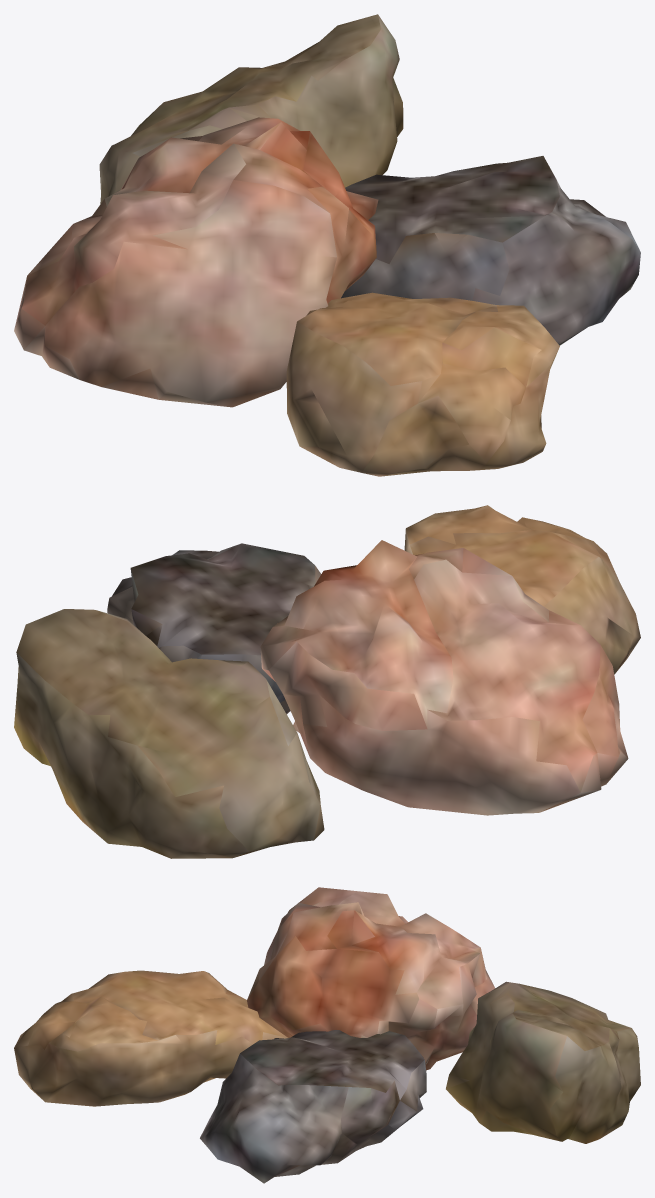
The model's file is ph_rock_6.glb.
3 views of the same model, one above another, from view 1: azimuth 30°, elevation 25°; view 2: azimuth 150°, elevation 25°; view 3: azimuth 270°, elevation 25° (orthographic). The views are drawn at different scales.
Parts seen in each view (by area): view 1: ph_rock_6_lod1; view 2: ph_rock_6_lod1; view 3: ph_rock_6_lod1.
Boxes of the visible parts, box(x1,y1,x2,y2) form: ph_rock_6_lod1: box(14, 14, 640, 476); ph_rock_6_lod1: box(14, 505, 640, 858); ph_rock_6_lod1: box(14, 887, 640, 1183).
Size of the model in its own units: 0.4044 by 0.1537 by 0.4979.
Materials: 1 (1 with a texture image).
